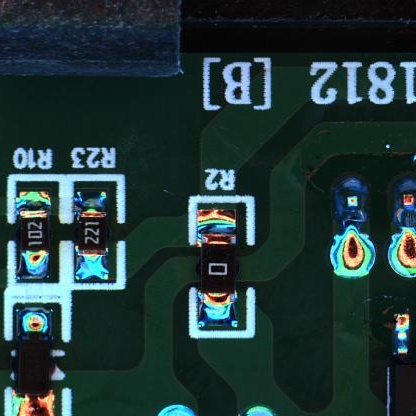spot: (331, 174, 373, 228), (388, 173, 416, 226)
